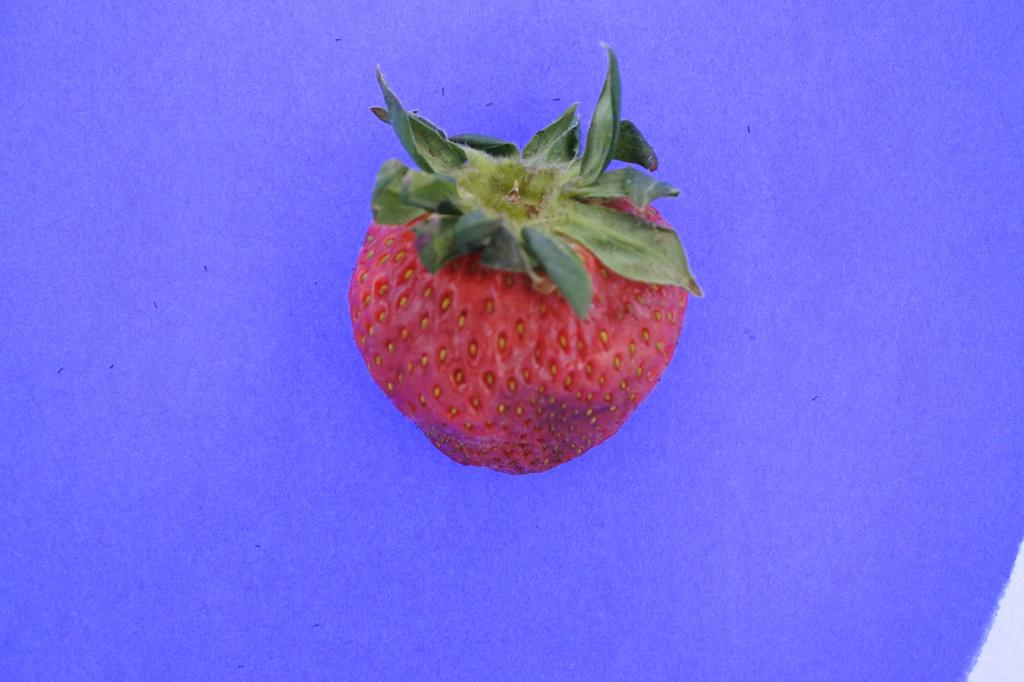red strawberry: (350, 52, 707, 476)
